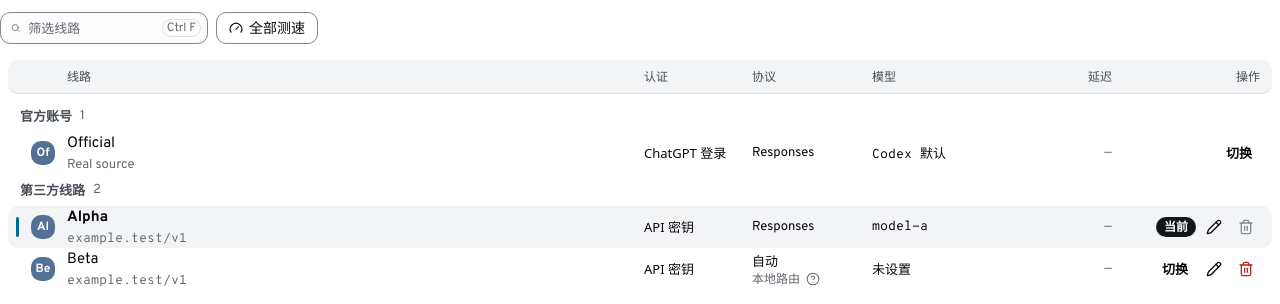
Test: connected provider line table › shows a failed request without fabricated measurements and permits retry
Click the button "全部测速": (267, 28) [216,12,318,44]
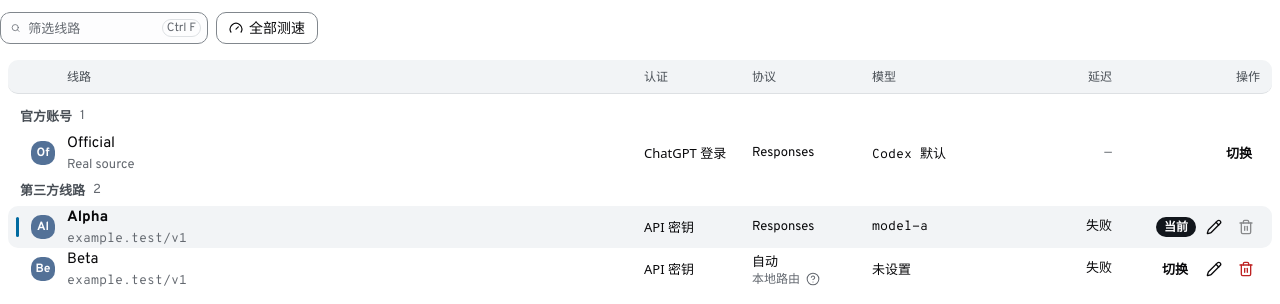
Check: the text "失败" is shown 2 times, box [1086,219,1112,235]; [1086,261,1112,277]
